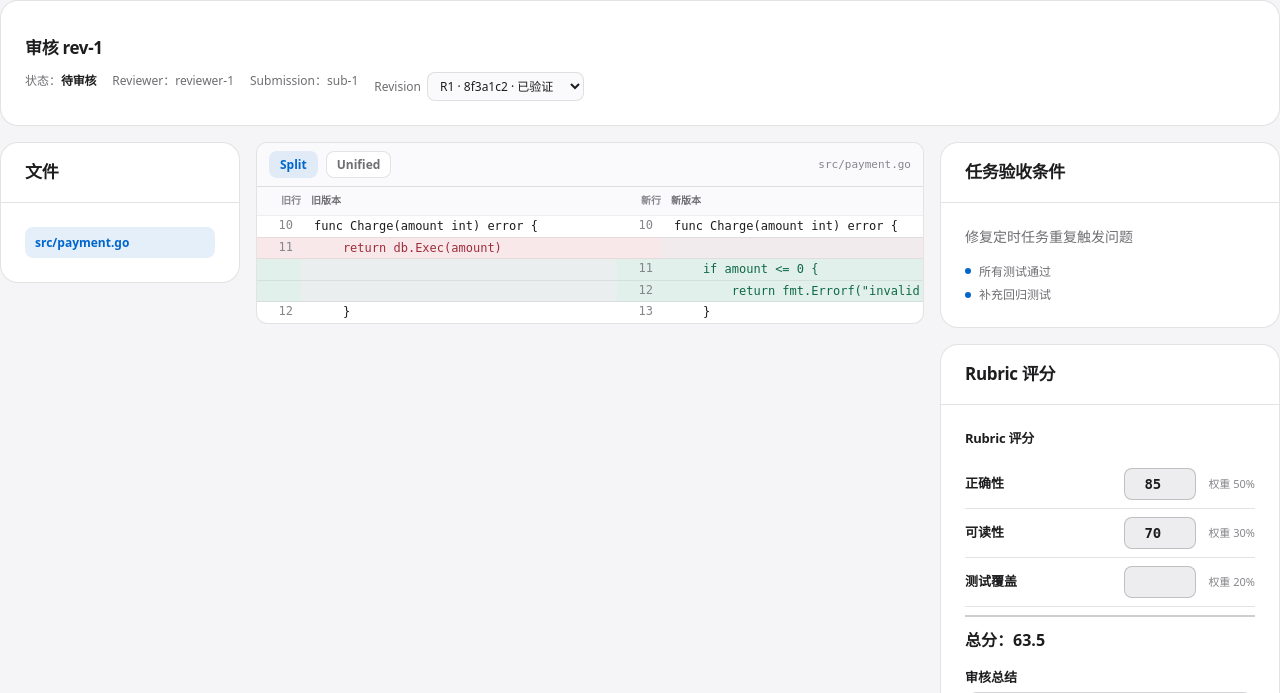
Scenario: ReviewPage › persists a line comment via POST /v1/reviews/:id/comments
Click the button named "在右侧第 12 行添加评论" at {"x": 639, "y": 290}, box top-left (617, 281), bottom-right (661, 299)
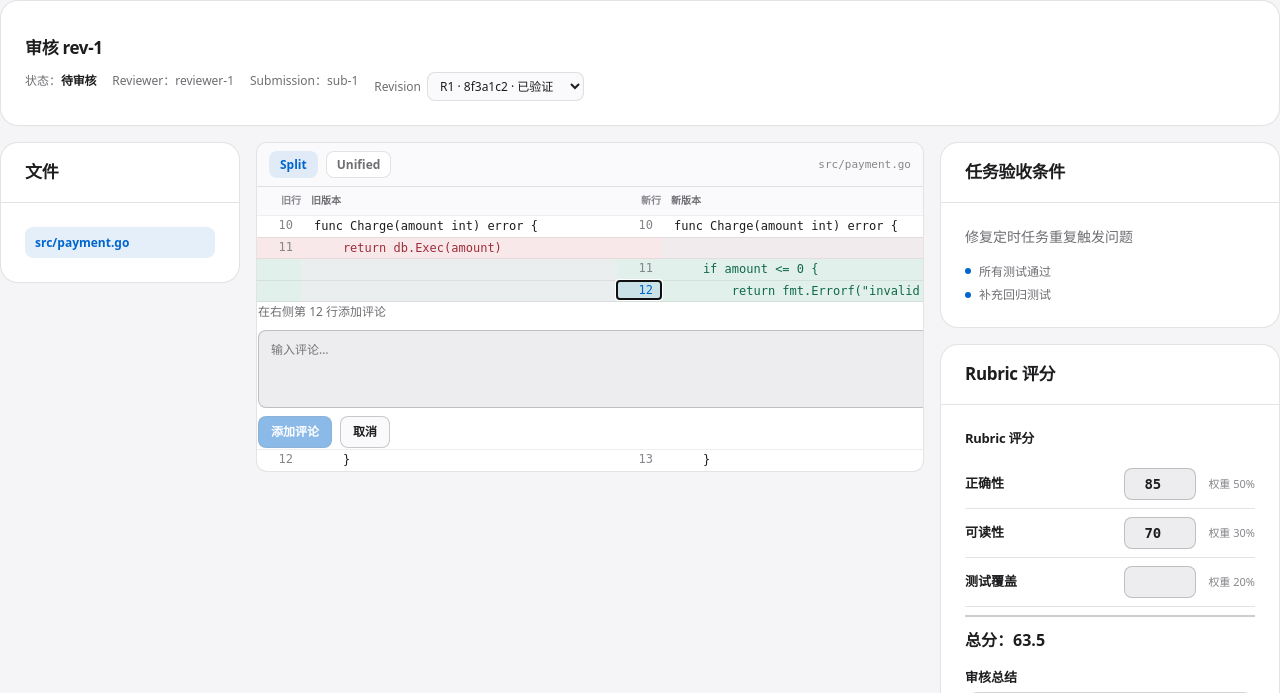
Type "边界情况未处理" into the text box with placeholder "输入评论…" at {"x": 617, "y": 369}, box top-left (258, 330), bottom-right (976, 408)
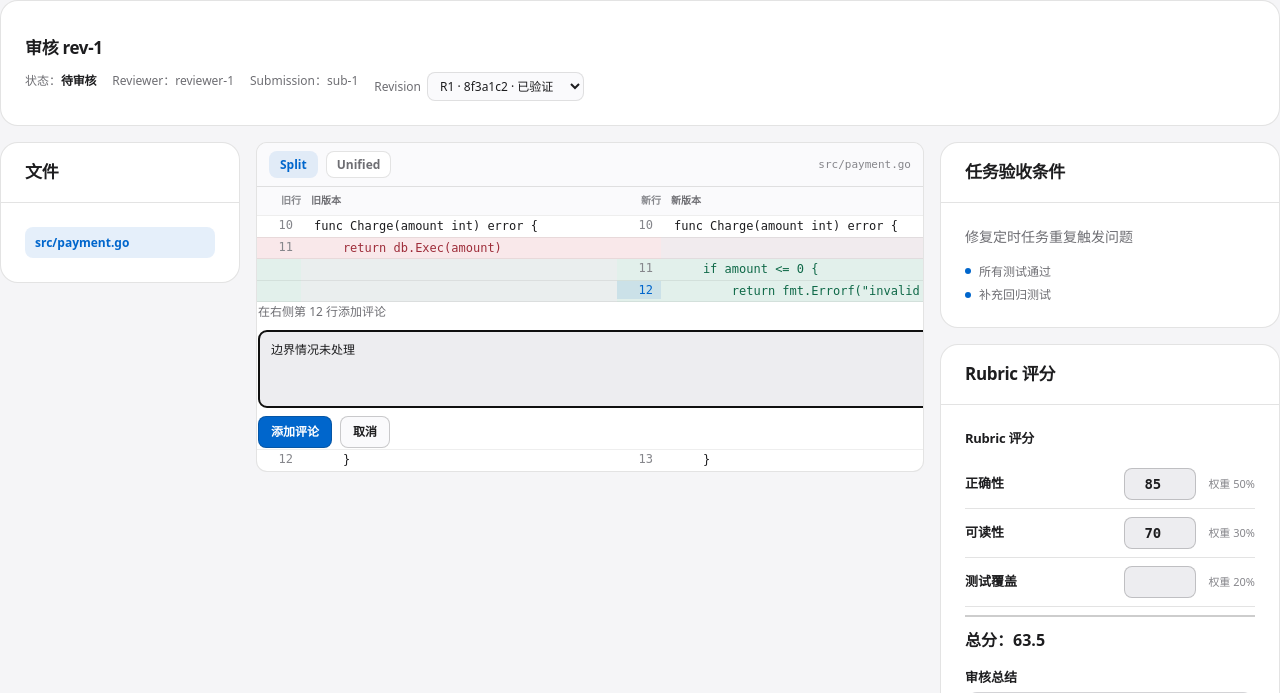
Click the button "添加评论" at {"x": 295, "y": 432}, box top-left (258, 416), bottom-right (332, 448)
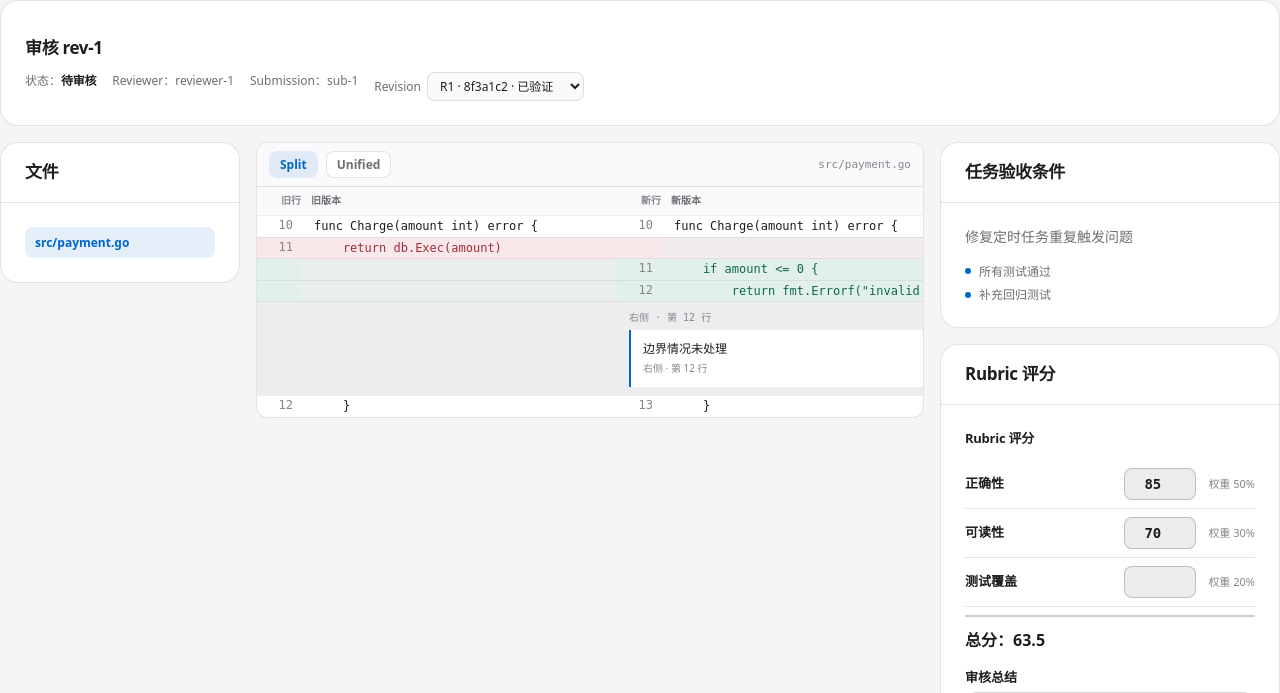
Expected: the button "src/payment.go" is shown, top-left (25, 227), bottom-right (215, 258)
Expected: the text "边界情况未处理" is shown, top-left (643, 340), bottom-right (727, 357)
